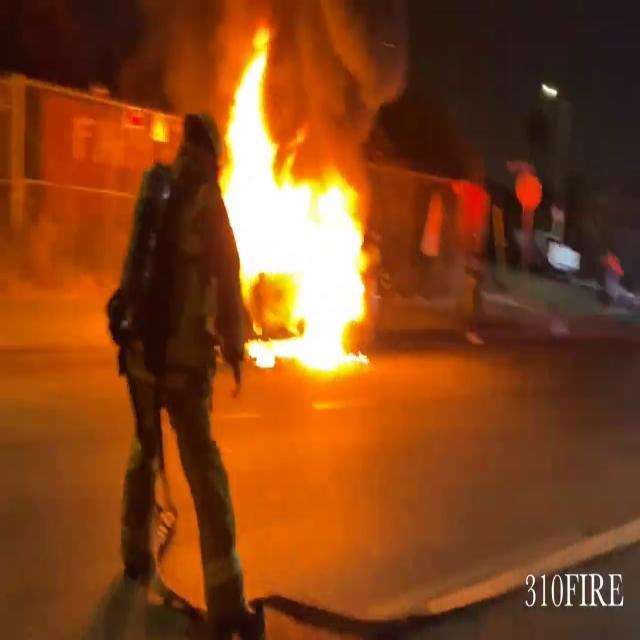Fire: (212, 22, 388, 385)
